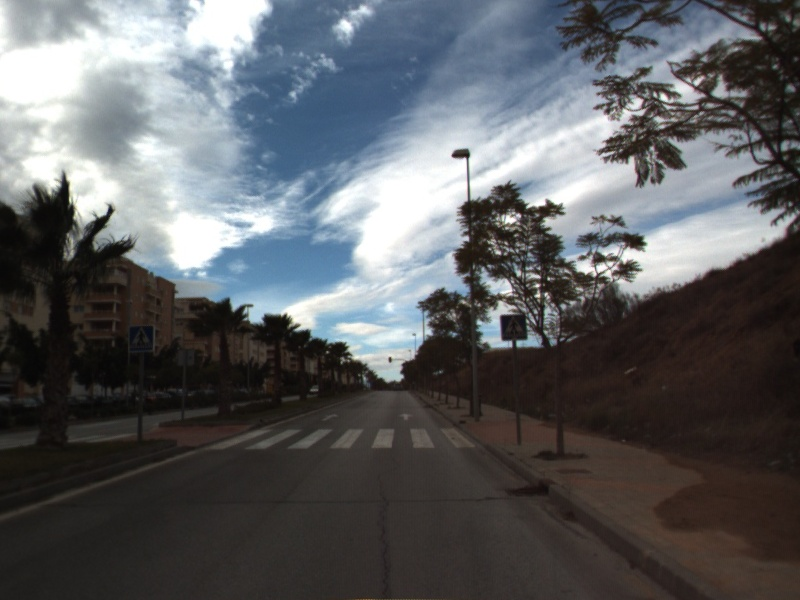STRAIGHT: (319, 411, 341, 423), (396, 411, 415, 422)
